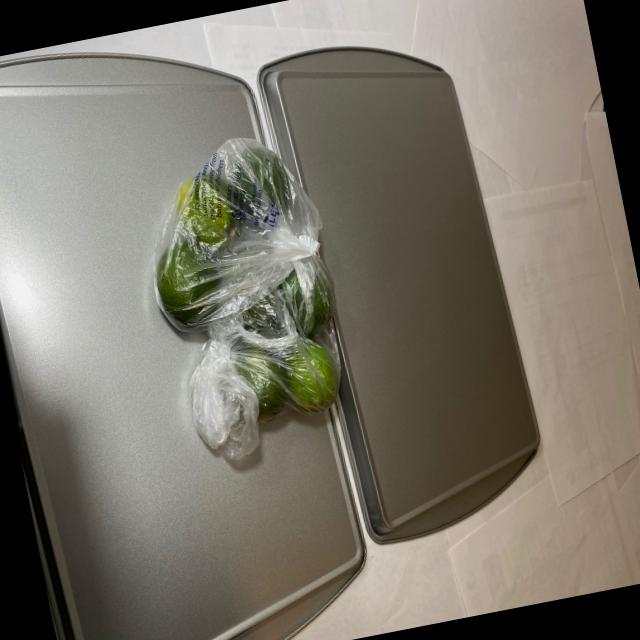lemon: (141, 140, 356, 449)
